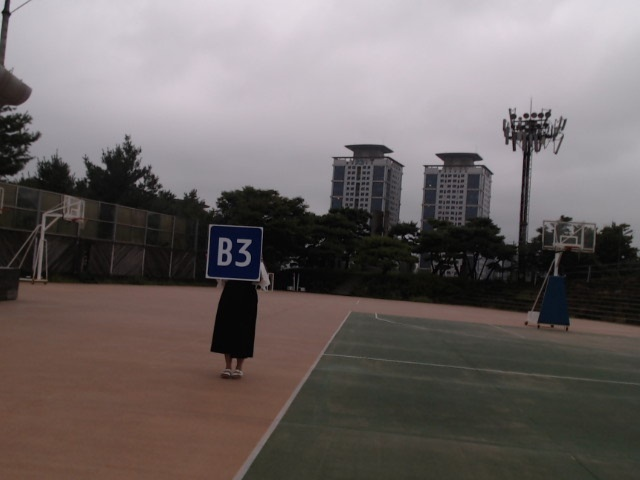delivery_b3: (207, 225, 262, 281)
